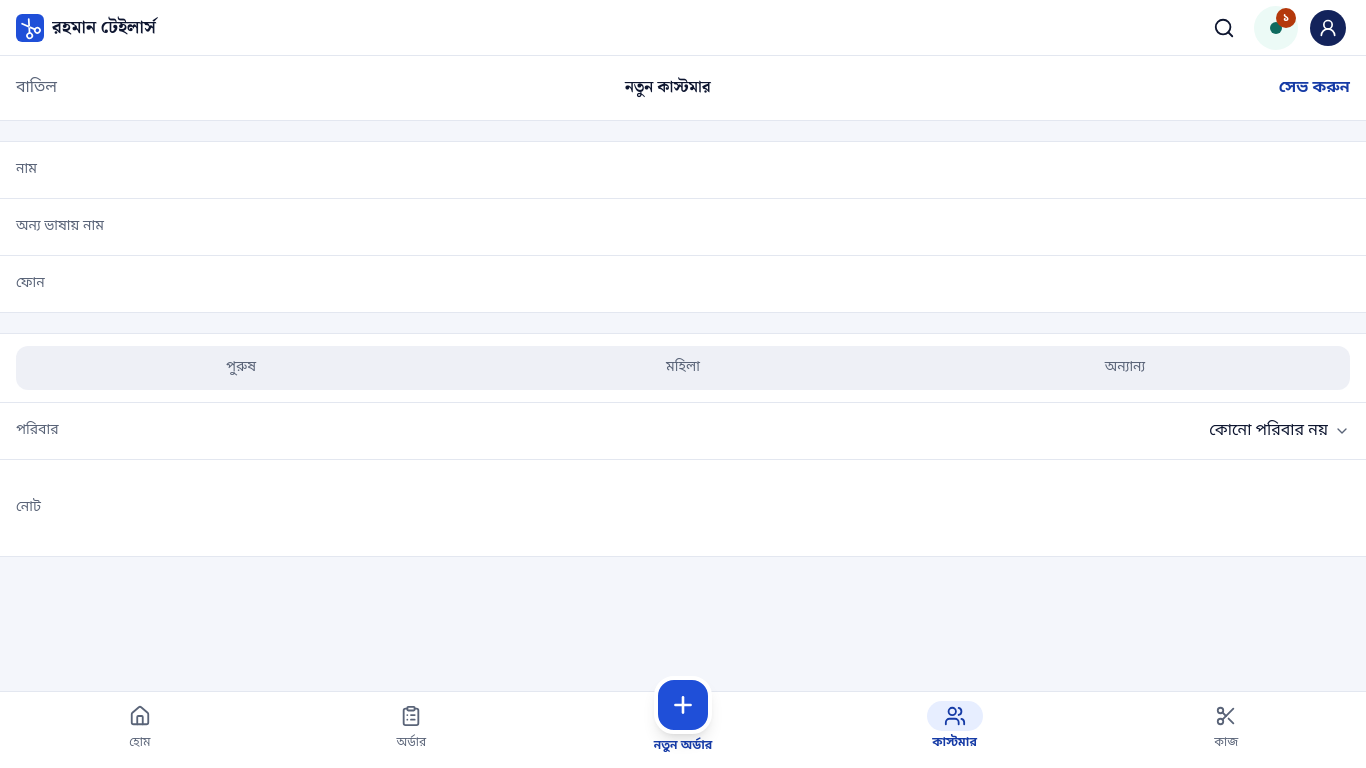
Test: Customer form on a phone › picks the household from a sheet with the chosen one ticked and a screen-reader-only title
This screenshot has width=1366, height=768.
Click the button labelled "কোনো পরিবার নয়". click: (1269, 431)
box: [124,407,1350,455]
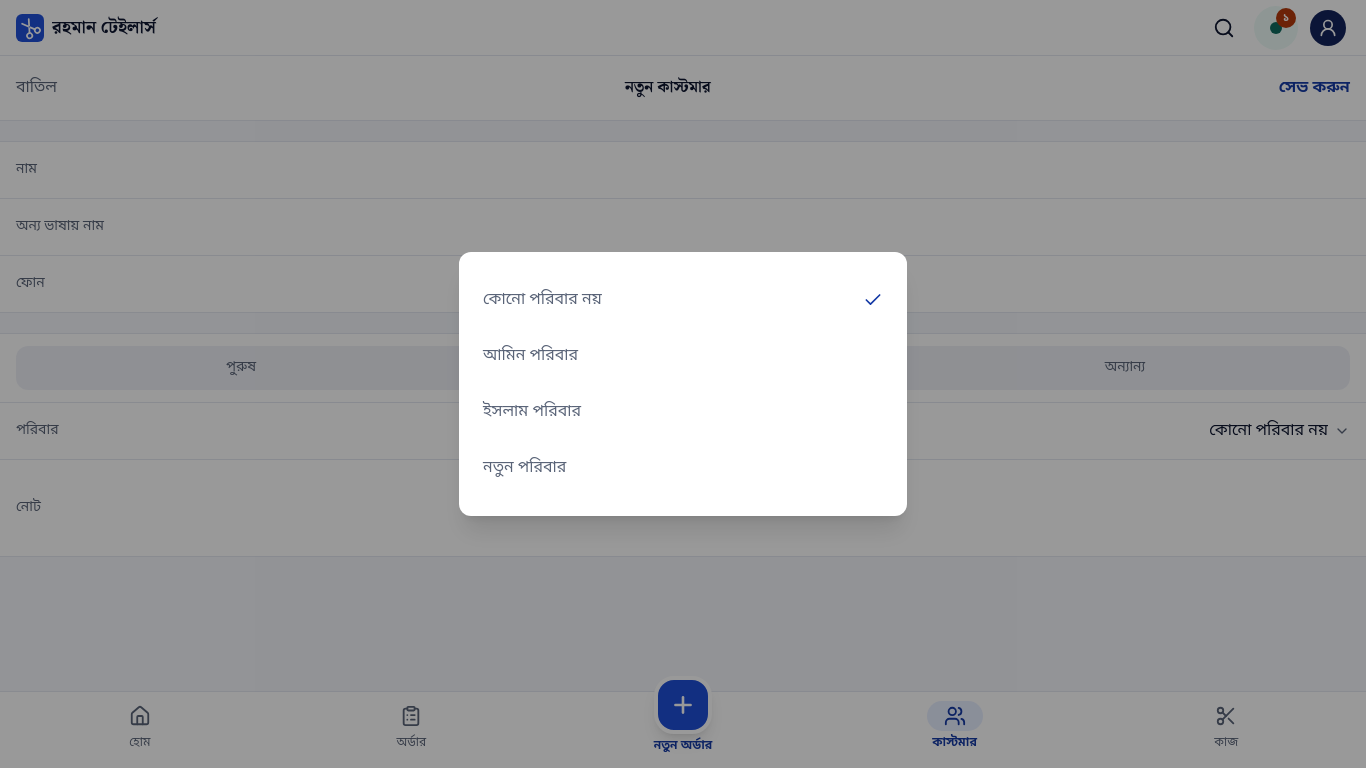
Click the option "নতুন পরিবার". click: (525, 468)
box: [479,440,887,496]
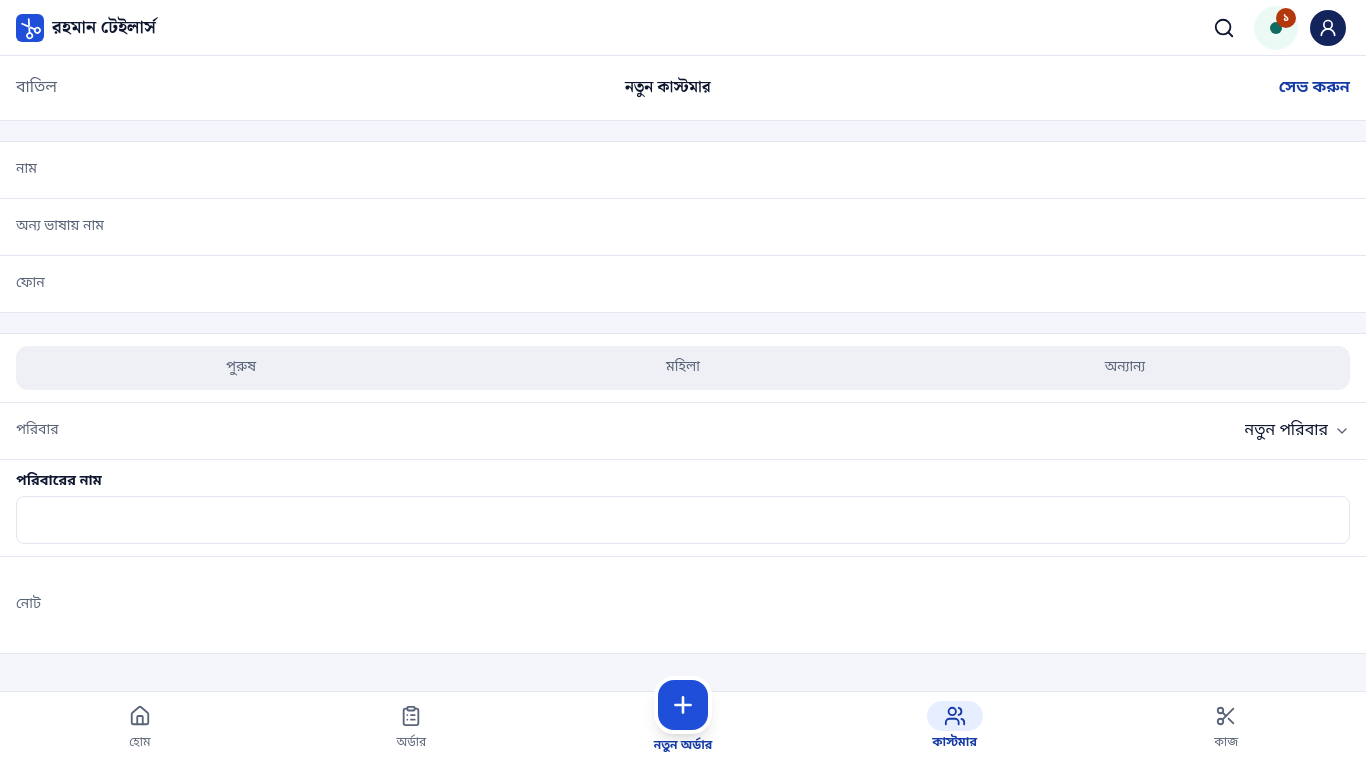
Now the list is gone
Now the field labelled "পরিবারের নাম" is shown, box [17,500,1349,540]
